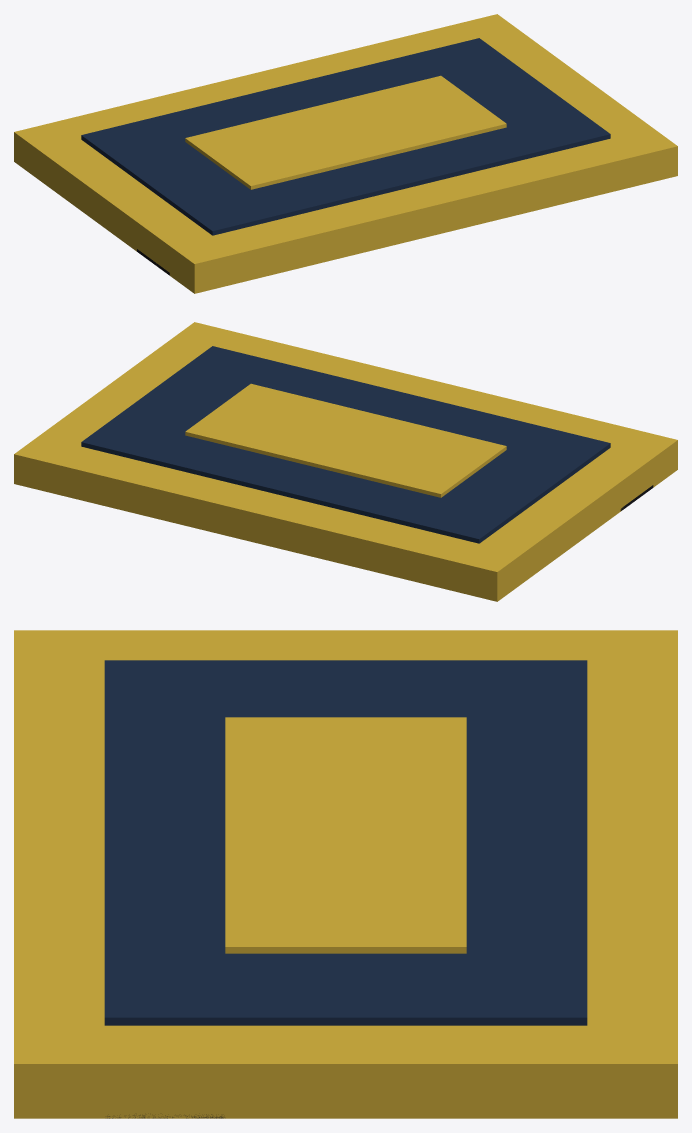
File: Prop_Keycard_Detailed.obj
3 views of the same model, one above another, from view 1: azimuth 30°, elevation 25°; view 2: azimuth 150°, elevation 25°; view 3: azimuth 270°, elevation 25° (orthographic). The views are drawn at different scales.
Bounding box in the file's own units: 0.34 × 0.0255 × 0.22.
